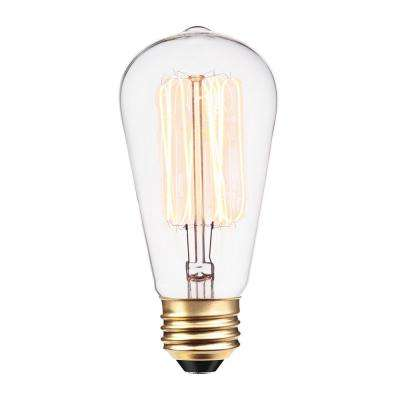Nonrec_Glass: (116, 22, 291, 378)
